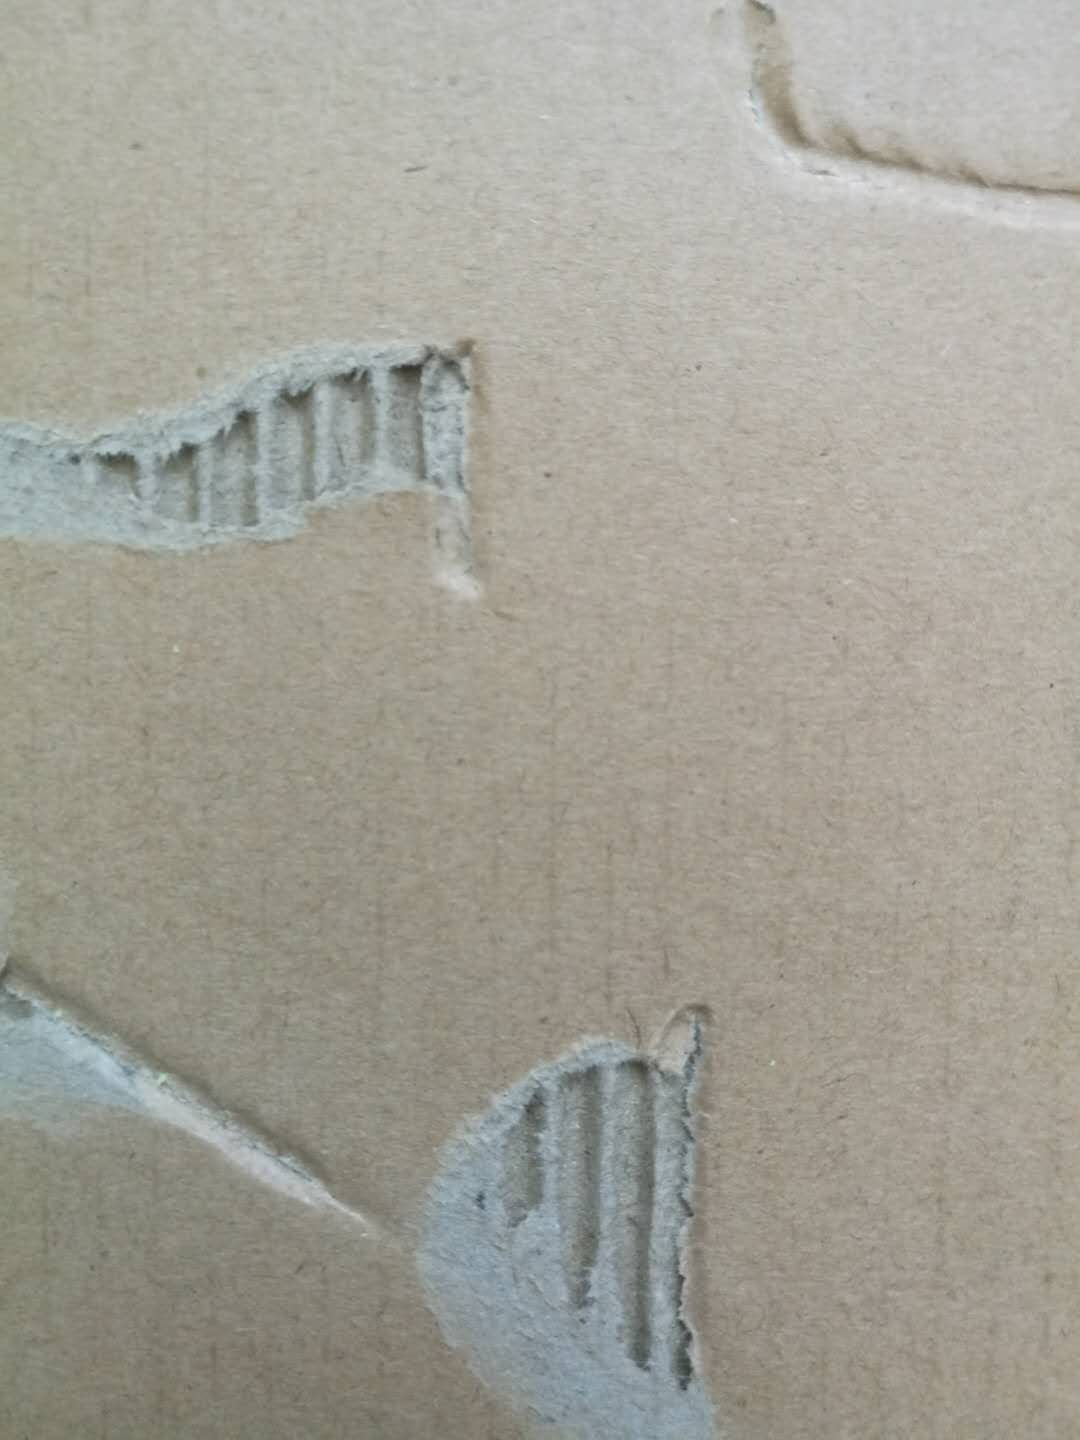defect: (379, 968, 794, 1440), (1, 295, 554, 632), (1, 908, 422, 1287), (697, 5, 1080, 293)
